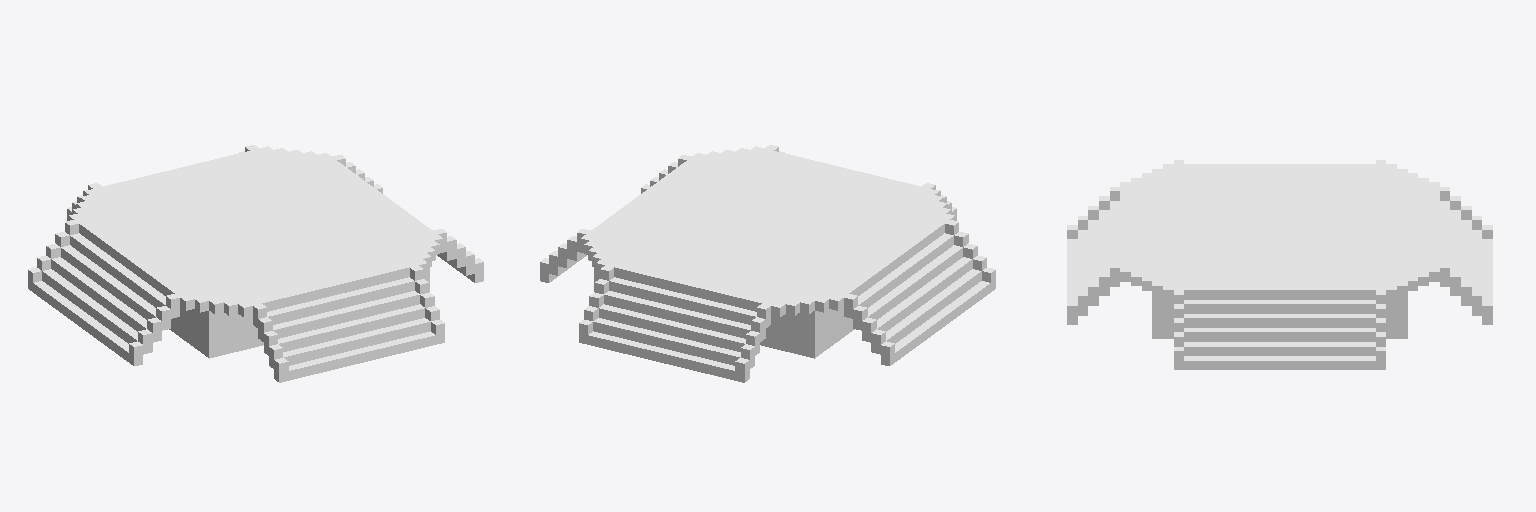
The model's file is helipad.obj.
3 views of the same model, side by side, from view 1: azimuth 30°, elevation 25°; view 2: azimuth 150°, elevation 25°; view 3: azimuth 270°, elevation 25° (orthographic).
Parts seen in each view (by area): view 1: object 1; view 2: object 1; view 3: object 1.
Boxes of the visible parts, <box> form: object 1: <box>28,145,483,382</box>; object 1: <box>540,145,995,382</box>; object 1: <box>1067,160,1492,369</box>.
Bounding box in the file's own units: 3.8 × 0.6 × 4.